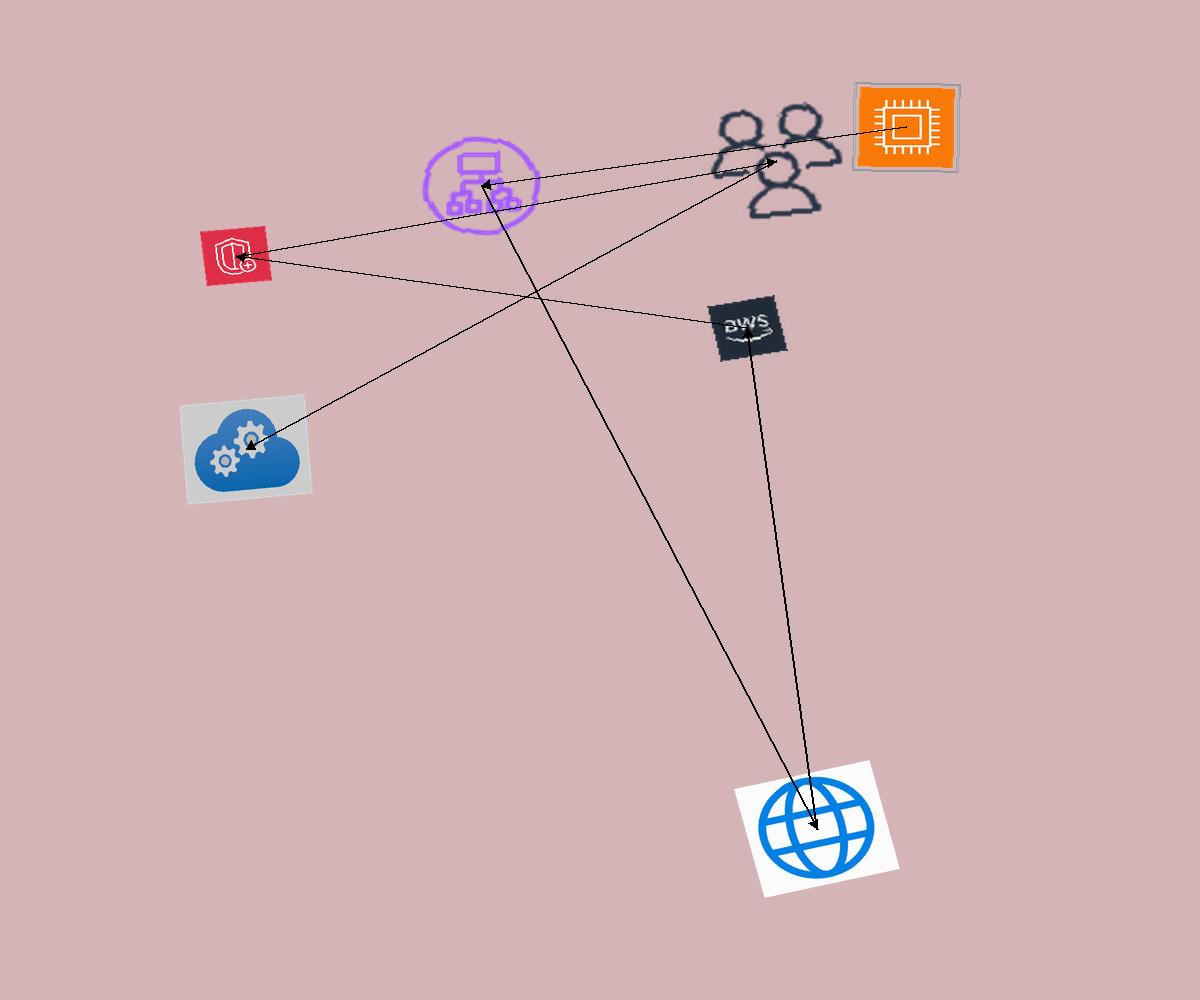AWS-Category_Compute: (852, 82, 961, 173)
AWS-Cloud-logo: (707, 295, 788, 362)
AWS-Res_Elastic-Load-Balancing_Application-Load-Balancer: (412, 128, 551, 244)
AWS-Res_Users: (693, 92, 860, 231)
AWS-Shield: (200, 226, 272, 286)
Azure_cloud_services: (179, 394, 313, 505)
Azure_http: (734, 760, 900, 898)
